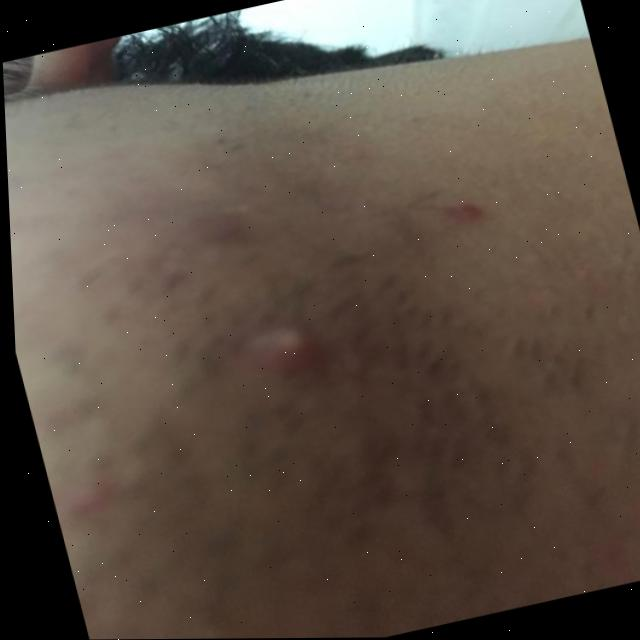Acne: (251, 301, 321, 380)
